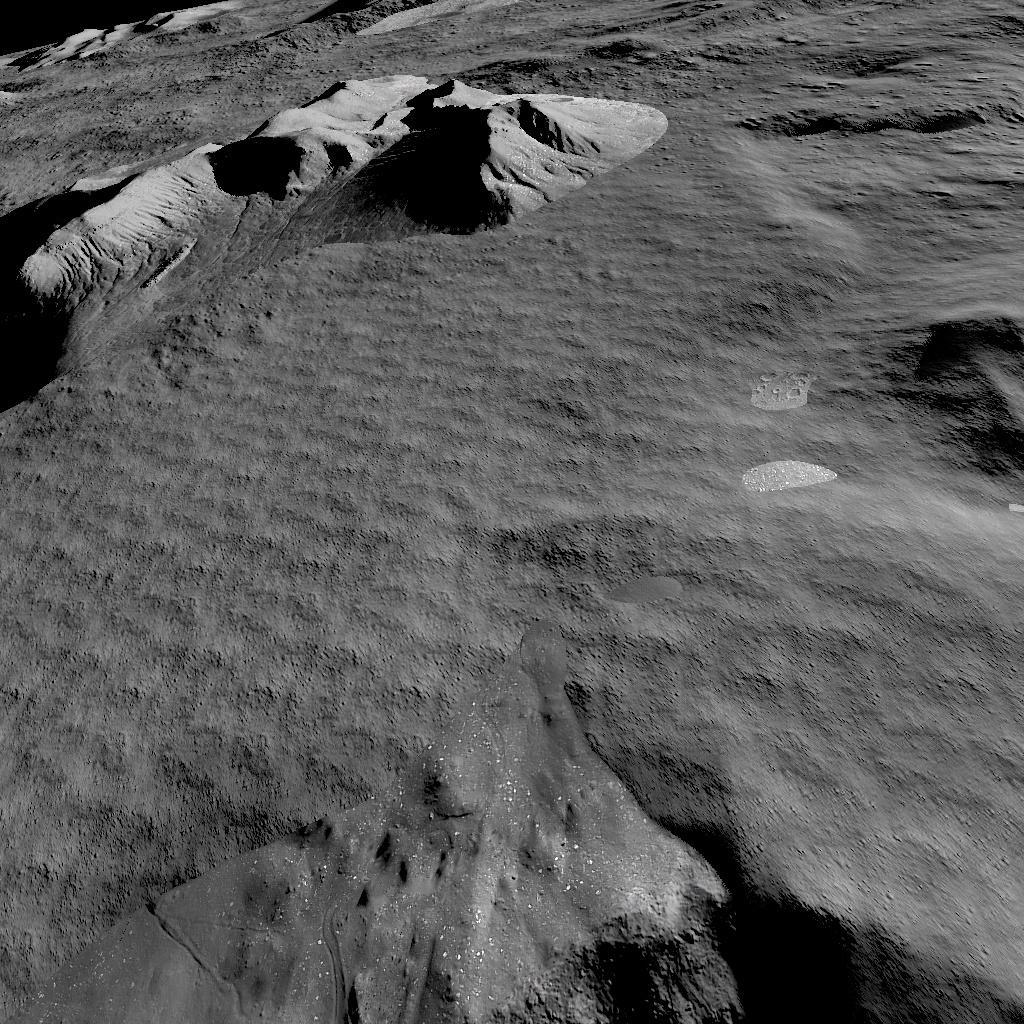Boulders: (0, 75, 673, 413)
Crater: (0, 740, 1024, 1024), (918, 292, 1024, 486)
Plan surface: (0, 428, 905, 726)
